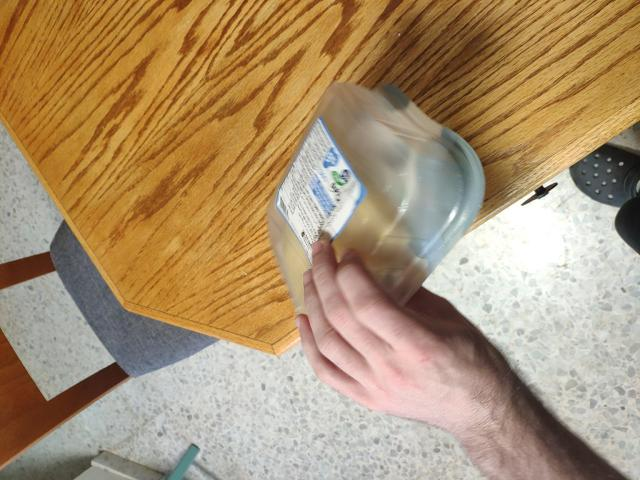cheese: (252, 75, 477, 356)
